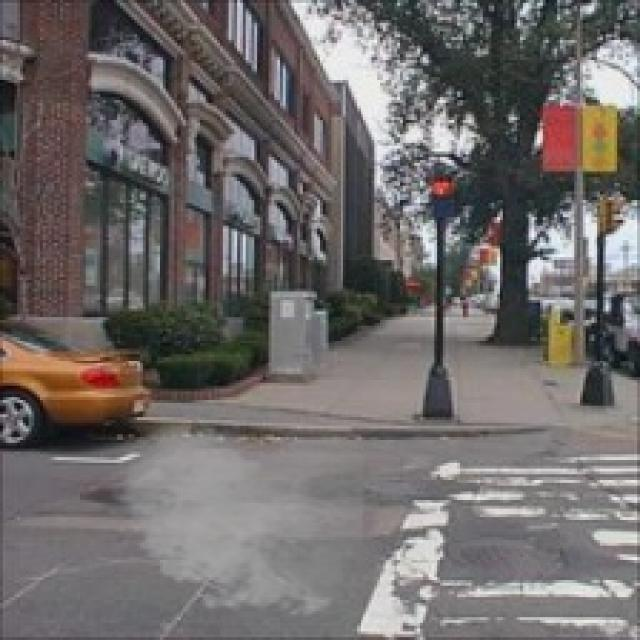smoke: (103, 417, 363, 623)
